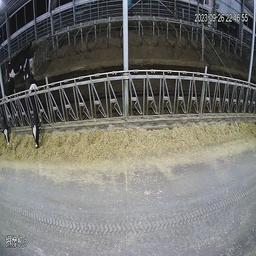cow: (22, 76, 47, 147), (5, 36, 33, 79), (2, 77, 14, 152)
